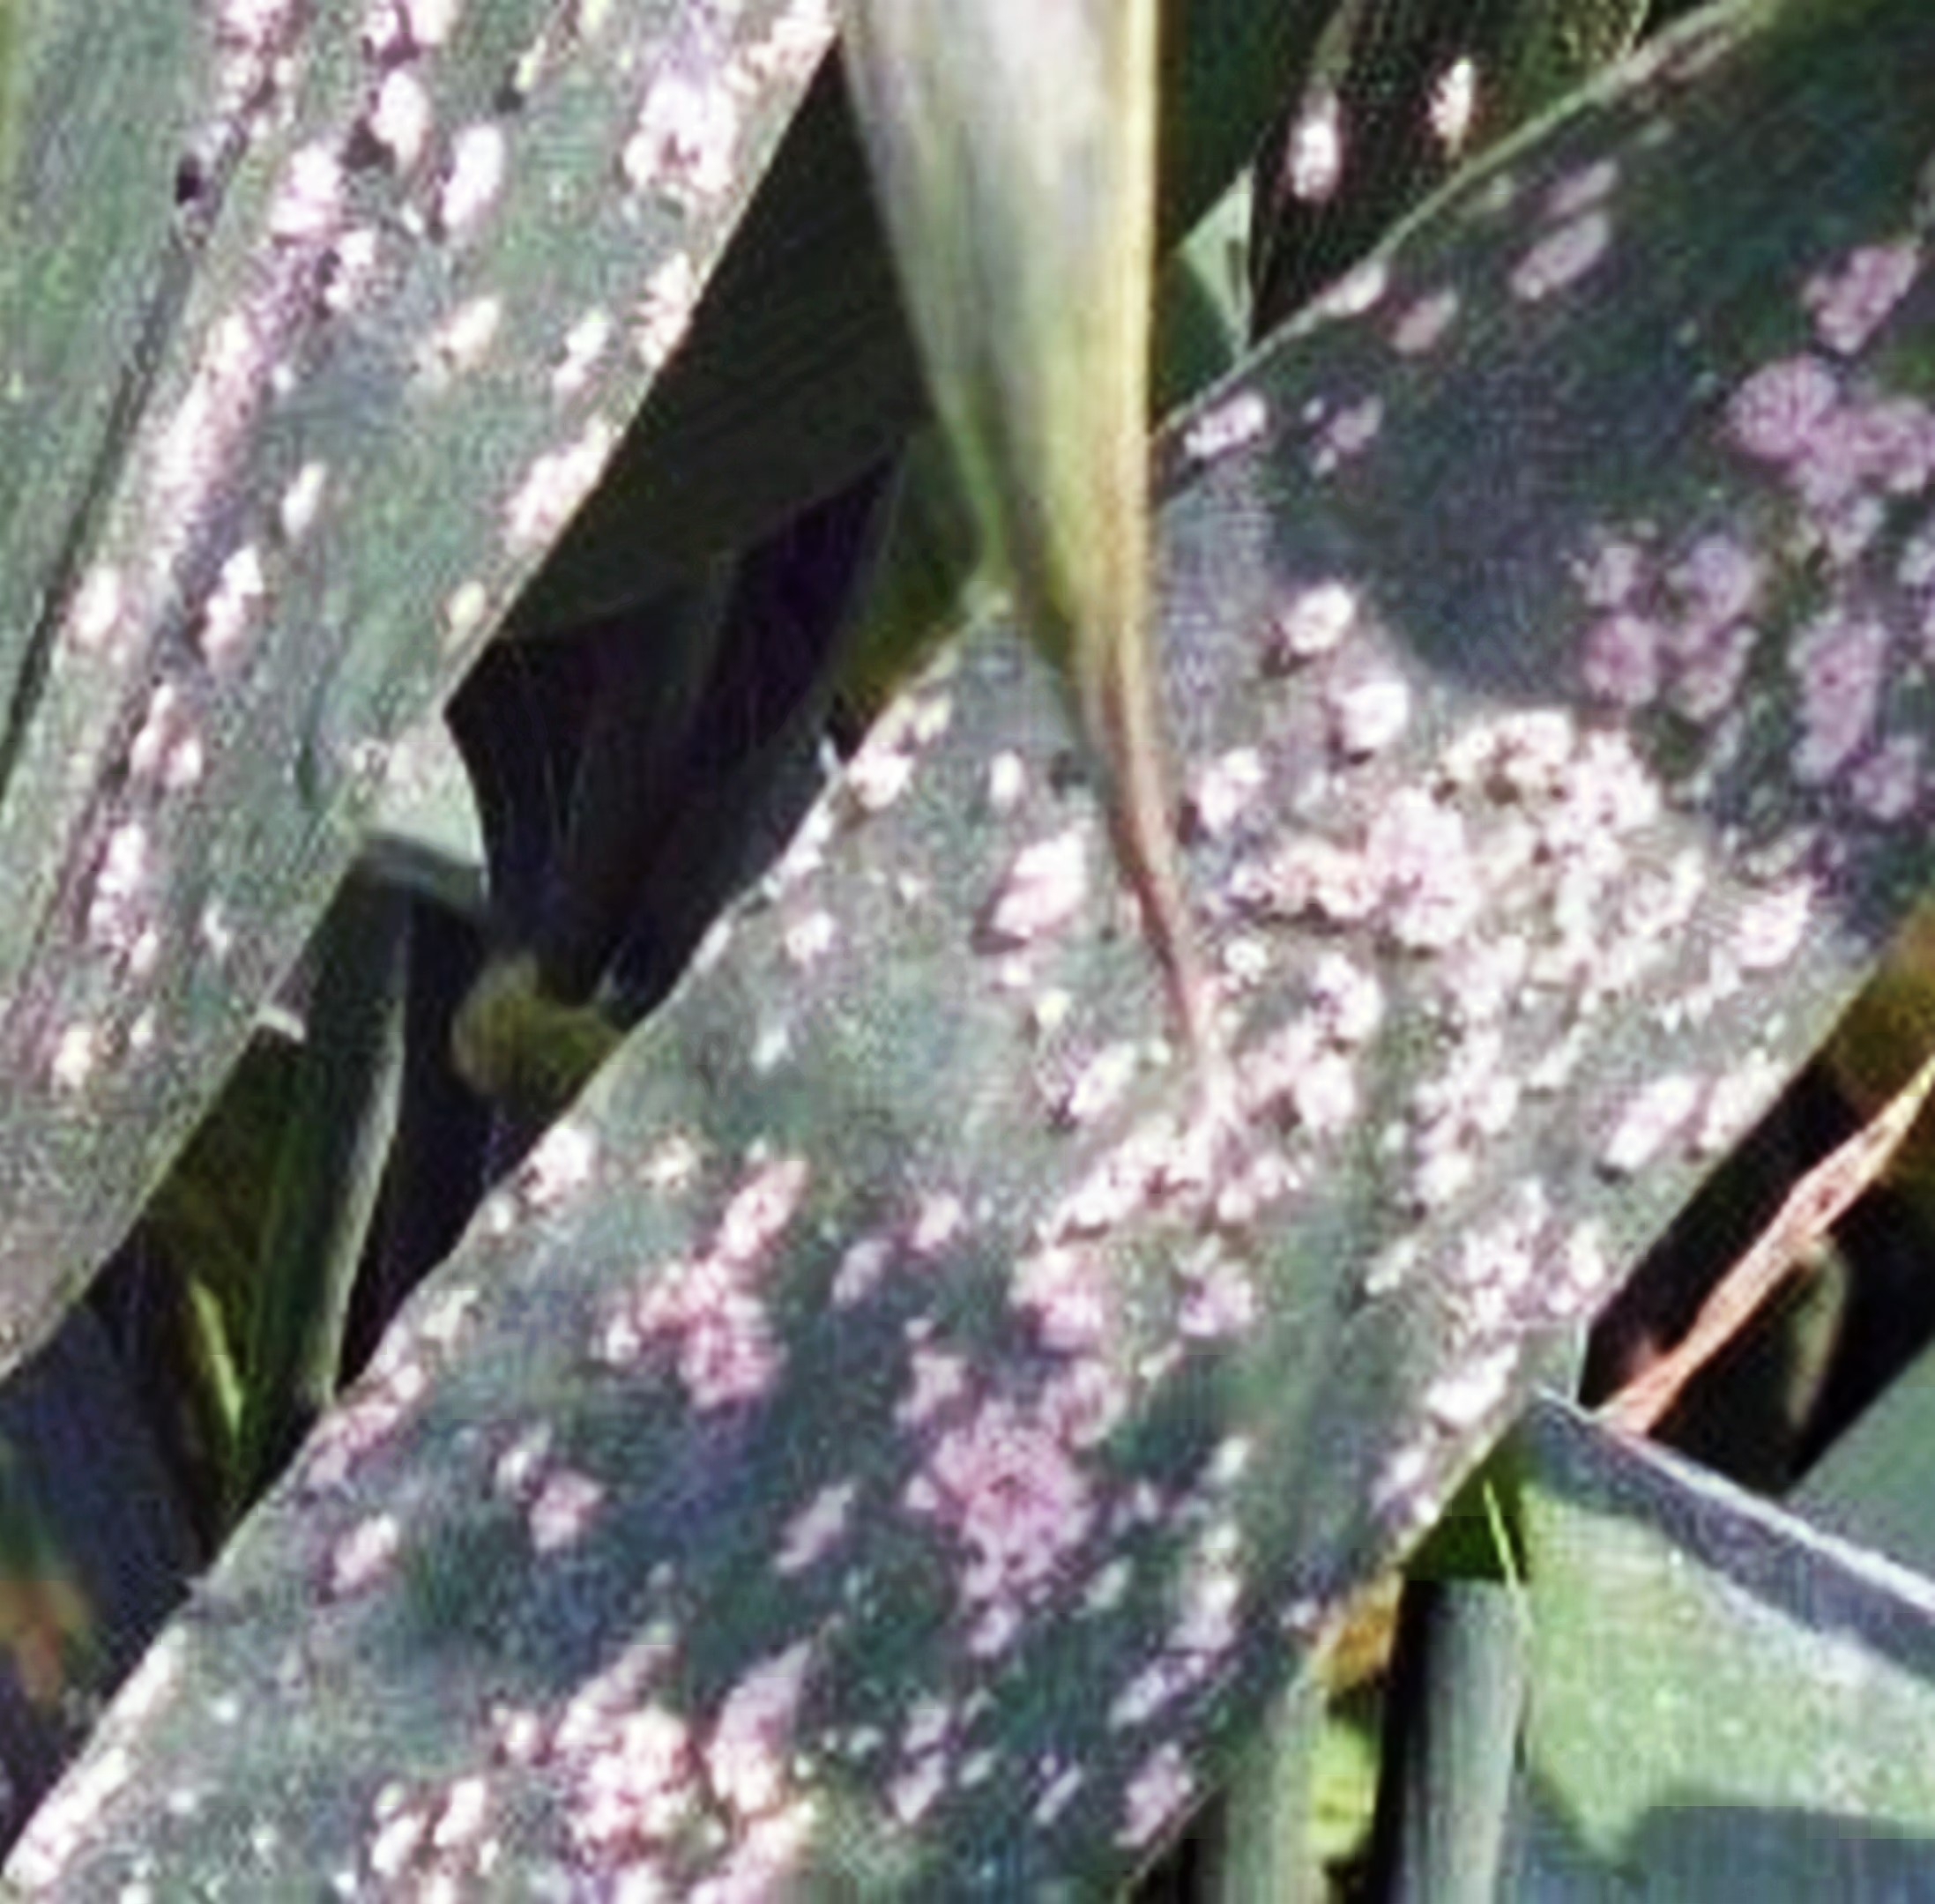Powdery Mildew: (384, 316, 1921, 1853)
